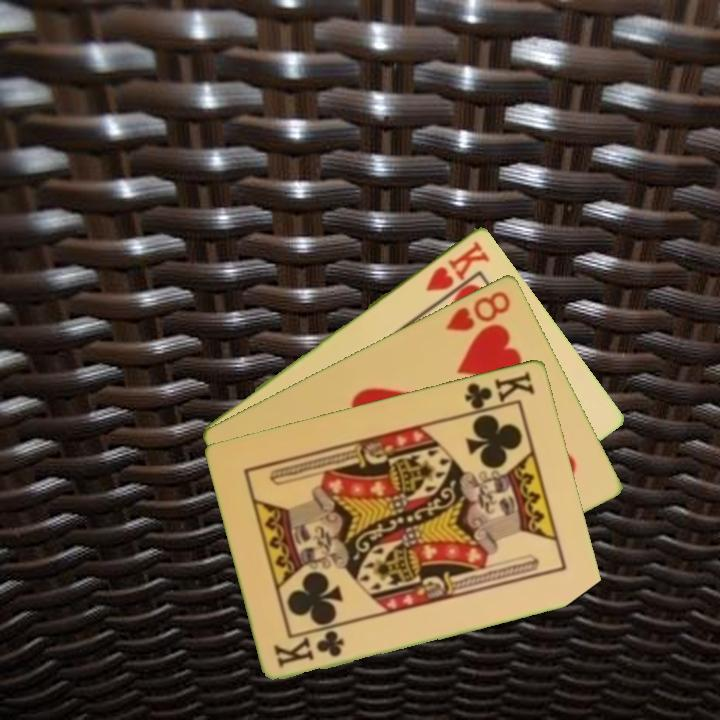8h: (442, 287, 514, 334)
Kc: (460, 367, 538, 416), (270, 627, 347, 670)
Kh: (422, 237, 493, 294)
